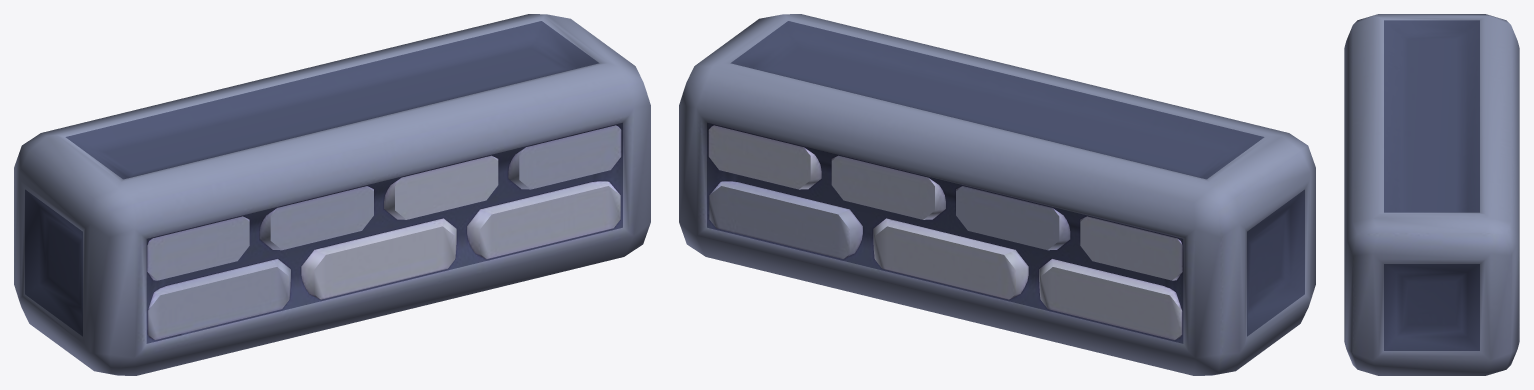
Rendered from tas3.glb.
The picture shows the model from 3 angles, left to right: view 1: azimuth 30°, elevation 25°; view 2: azimuth 150°, elevation 25°; view 3: azimuth 270°, elevation 25°; orthographic projection. The views are drawn at different scales.
Parts seen in each view (by area): view 1: tas3; view 2: tas3; view 3: tas3.
Part boxes in pixels (box(x1,y1,x2,y2)): tas3: box(14, 14, 650, 375); tas3: box(679, 14, 1315, 375); tas3: box(1344, 14, 1519, 375).
Size of the model in its own units: 4.6 by 1.51 by 1.51.
1 material, 1 textured.
